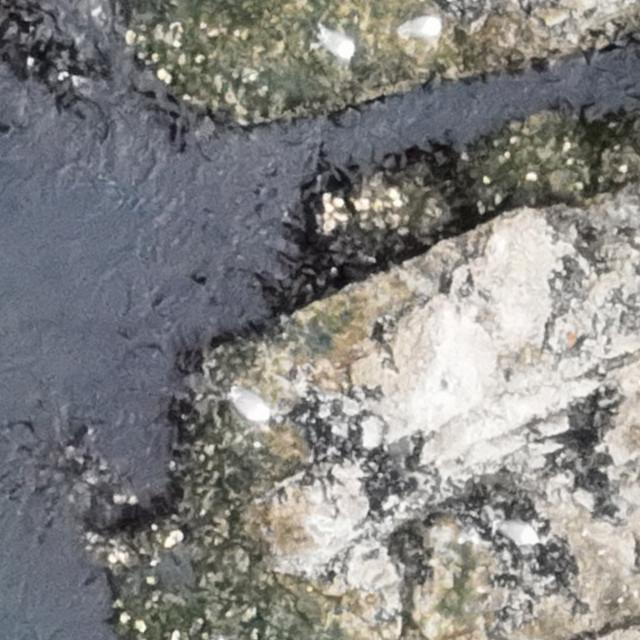umineko: (232, 386, 272, 421), (492, 517, 542, 544), (322, 31, 354, 58), (399, 18, 439, 38)
